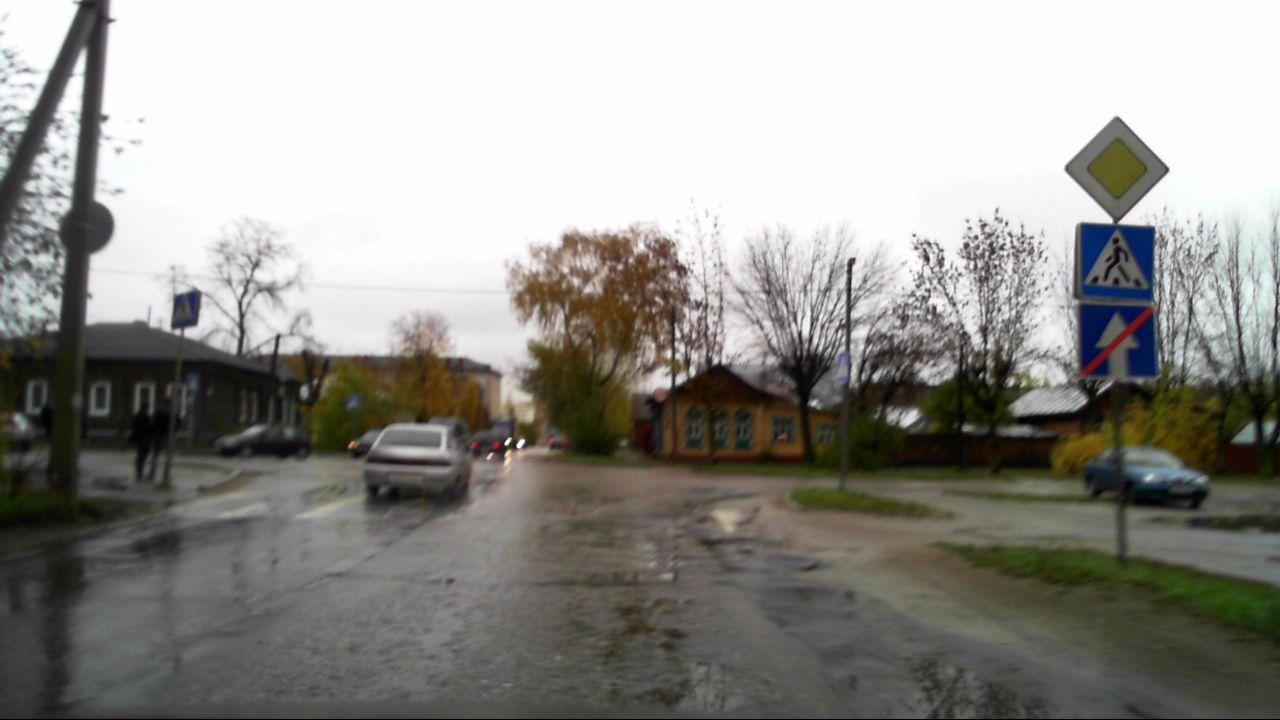2_1: (1060, 116, 1169, 219)
5_19_1: (1067, 219, 1159, 300)
5_19_2: (171, 294, 200, 326), (347, 393, 364, 411)
5_6: (1077, 306, 1158, 381)
